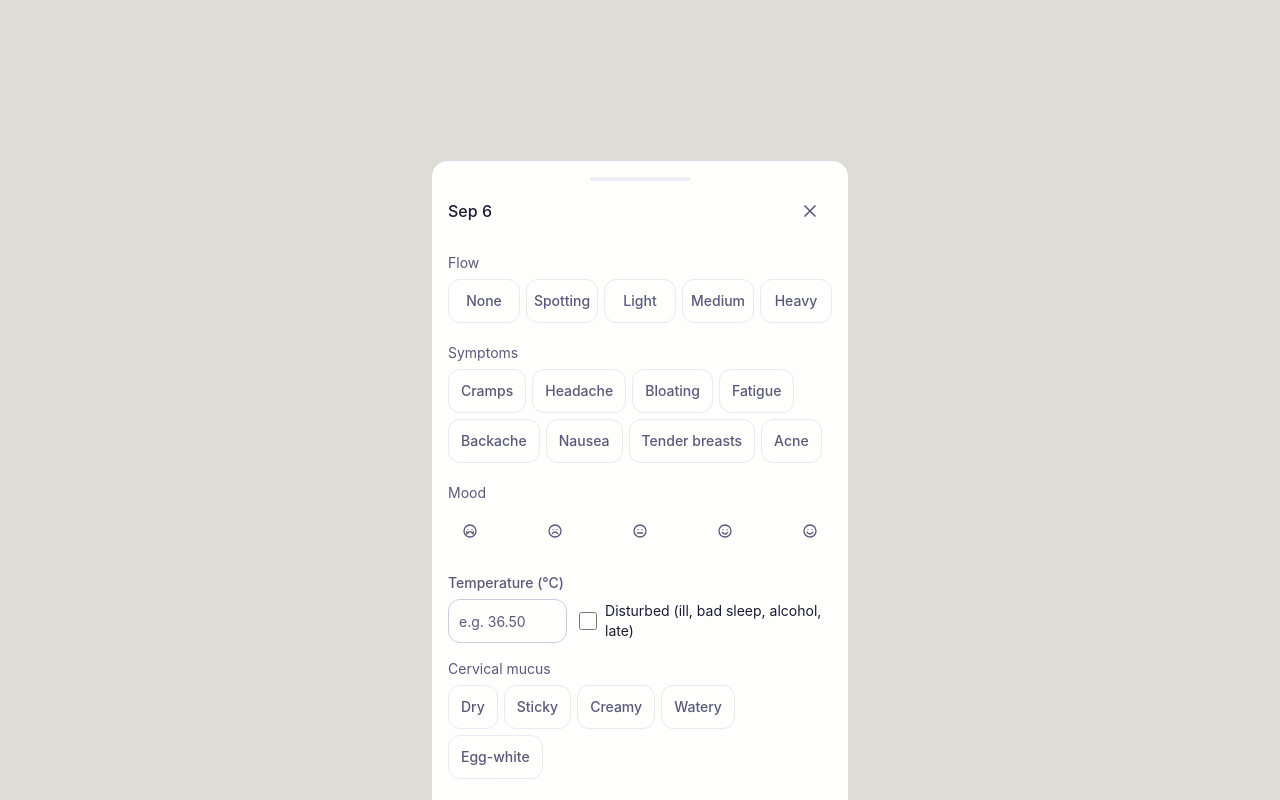
Test: LogEntryScreen — fertility awareness fields (T88) › refuses to save an implausible temperature
The image size is (1280, 800).
Type "41.9x" into the field labelled "Temperature (°C)" at [507, 621], box [448,599,567,643]
(page scrolled)
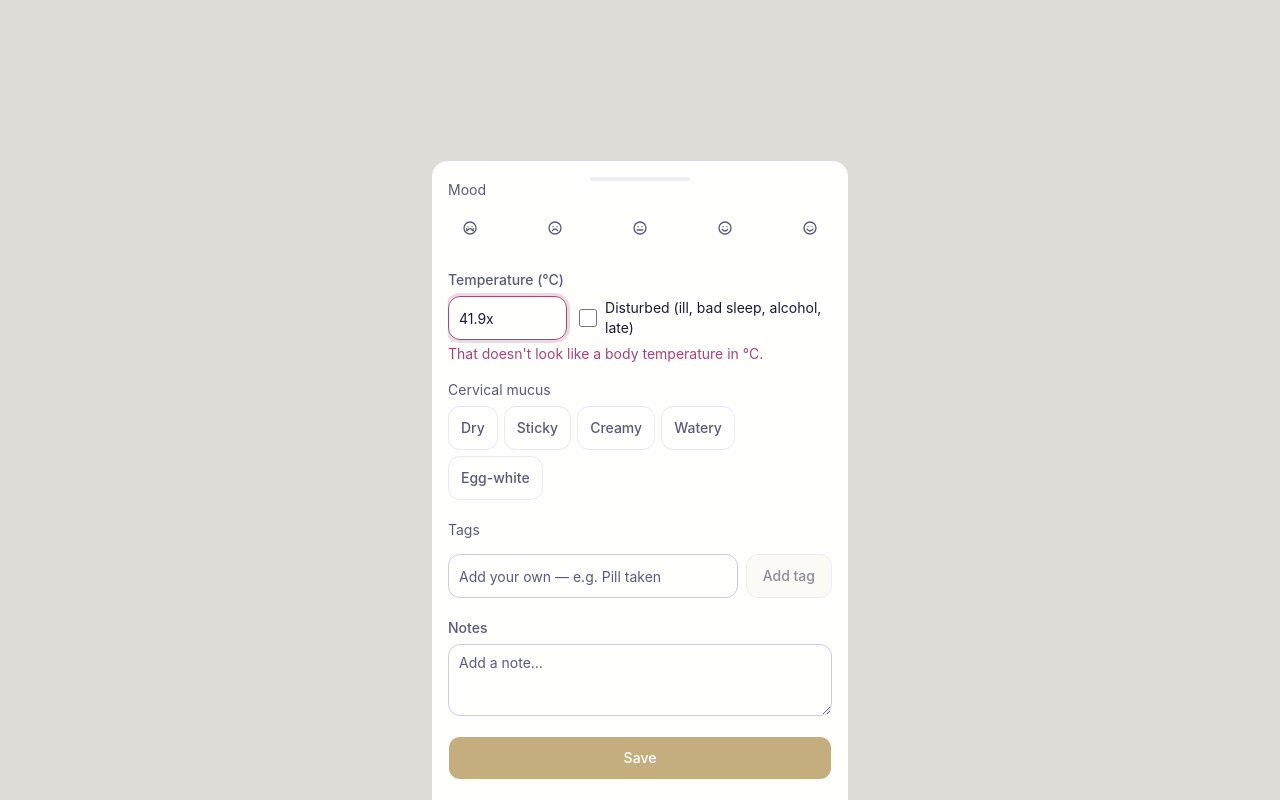
Now the text "That doesn't look like a body temperature in °C." is shown, box [448,345,763,362]
Now the button "Save" is disabled, box [448,736,832,780]
